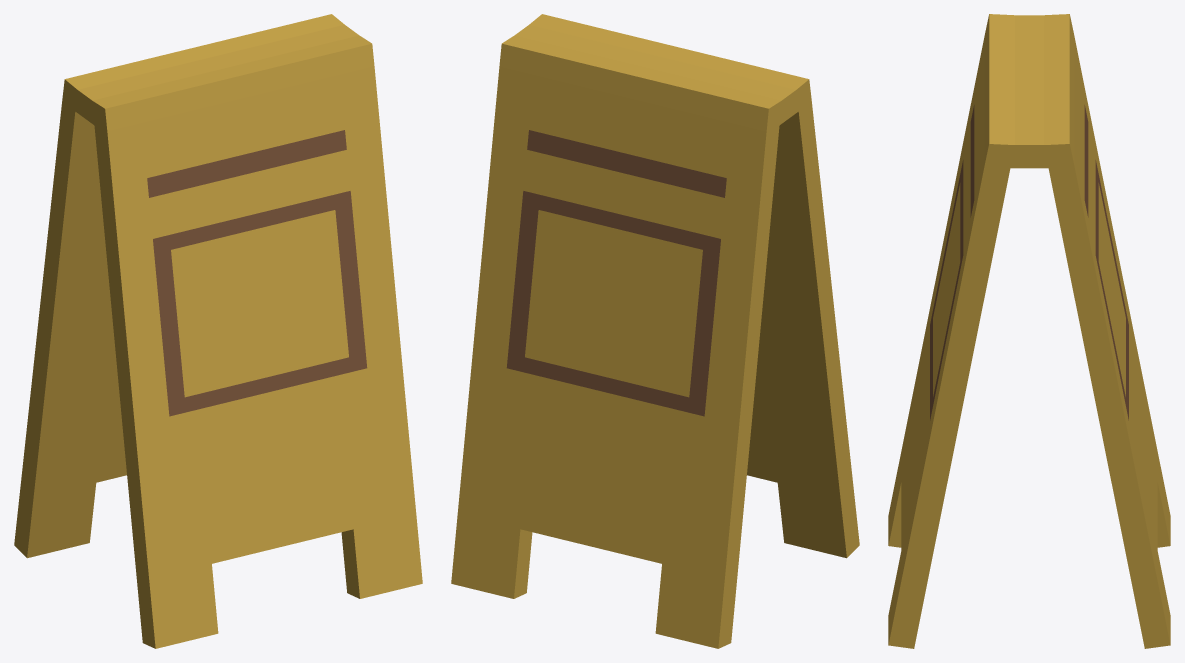
File: Sign.gltf
3 views of the same model, side by side, from view 1: azimuth 30°, elevation 25°; view 2: azimuth 150°, elevation 25°; view 3: azimuth 270°, elevation 25° (orthographic).
Parts seen in each view (by area): view 1: Sign; view 2: Sign; view 3: Sign.
Part boxes in pixels (x1,y1,x2,y2): Sign: (14,14,422,648); Sign: (451,14,859,648); Sign: (888,14,1170,648).
Bounding box in the file's own units: 0.5696 × 1.03 × 0.5225.
